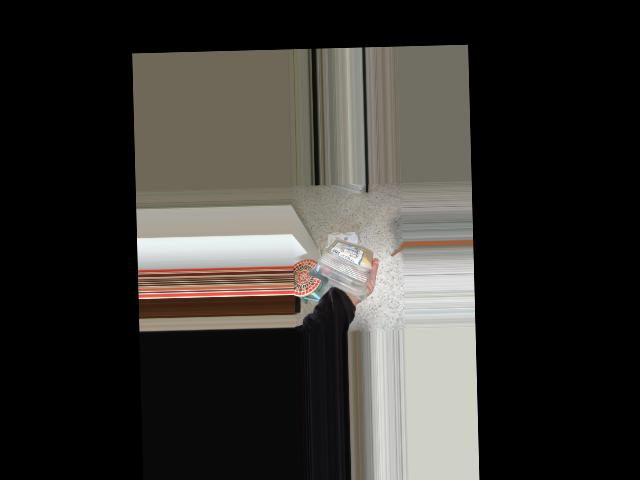cheese: (304, 226, 372, 302)
